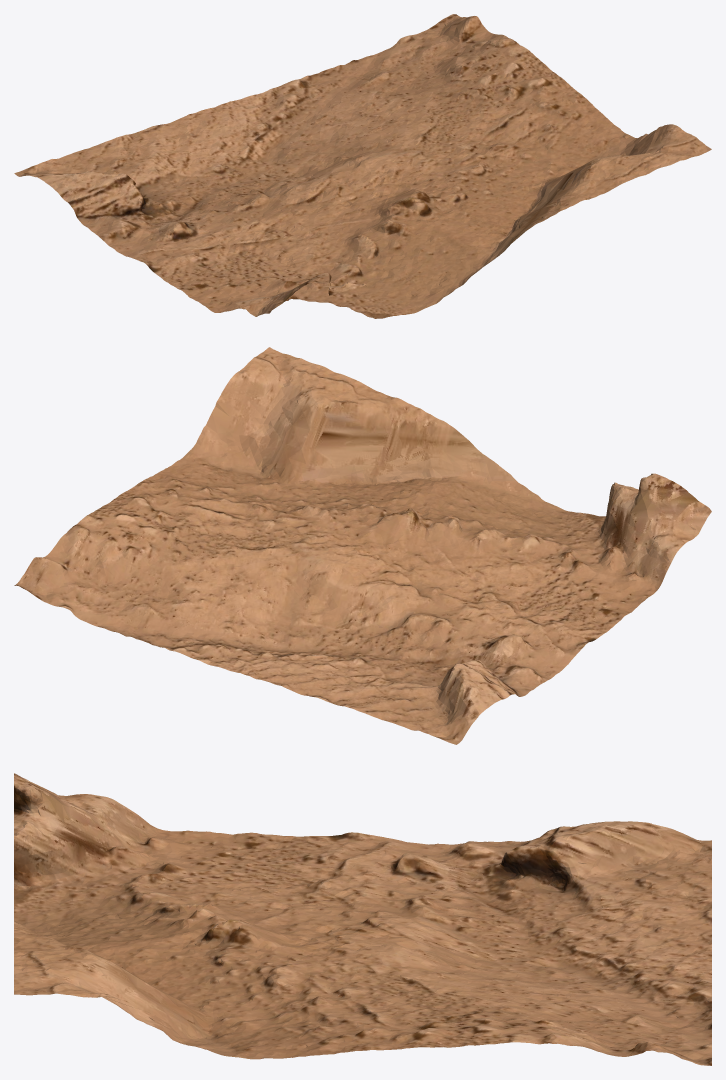
The picture shows the model from 3 angles, top to bottom: view 1: azimuth 30°, elevation 25°; view 2: azimuth 150°, elevation 25°; view 3: azimuth 270°, elevation 25°; orthographic projection. The views are drawn at different scales.
Bounding box in the file's own units: 1.04 × 0.244 × 1.04.
Materials: 2 (2 with a texture image).
